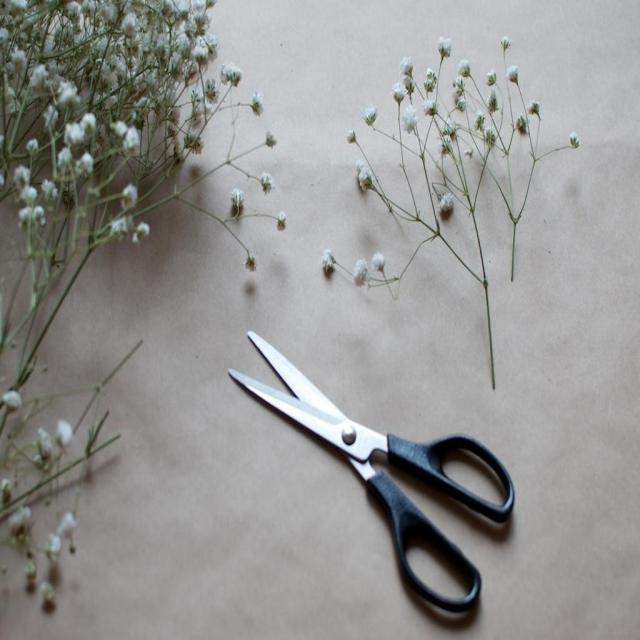scissor: (227, 328, 514, 613)
